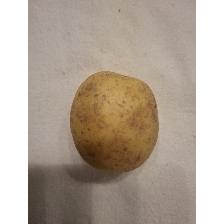Kartoffel: (69, 70, 161, 174)
